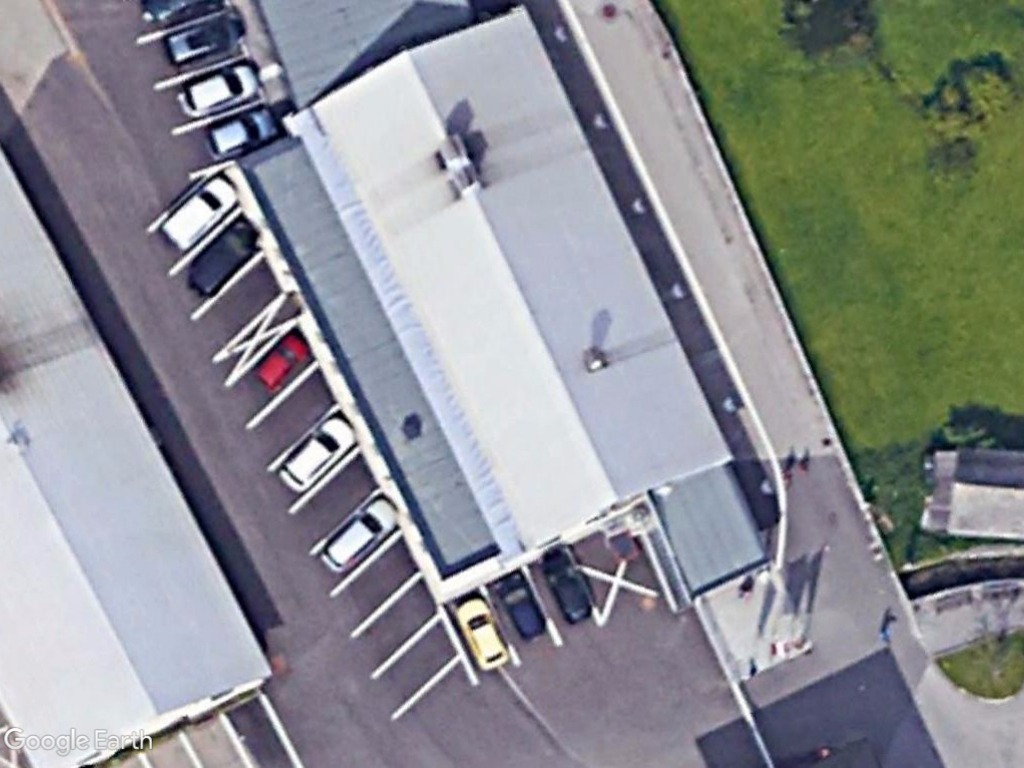car: (312, 486, 406, 581), (271, 408, 359, 500), (184, 214, 267, 303), (172, 56, 270, 122), (533, 540, 601, 632), (203, 97, 284, 163), (451, 592, 511, 678), (163, 11, 249, 70), (249, 324, 315, 398), (493, 563, 550, 643)
van: (156, 170, 238, 258)
